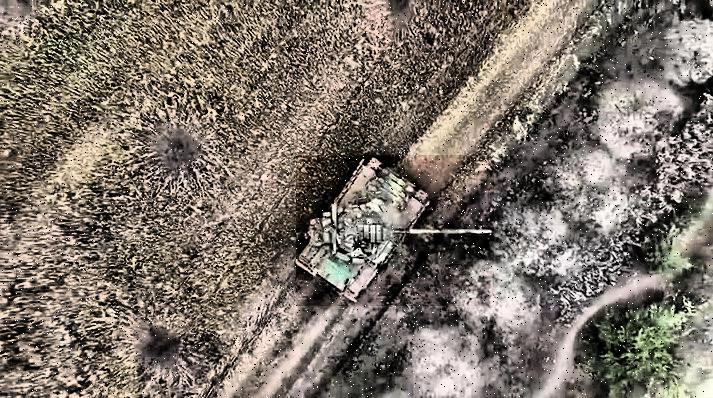military-vehicle: (297, 156, 495, 307)
